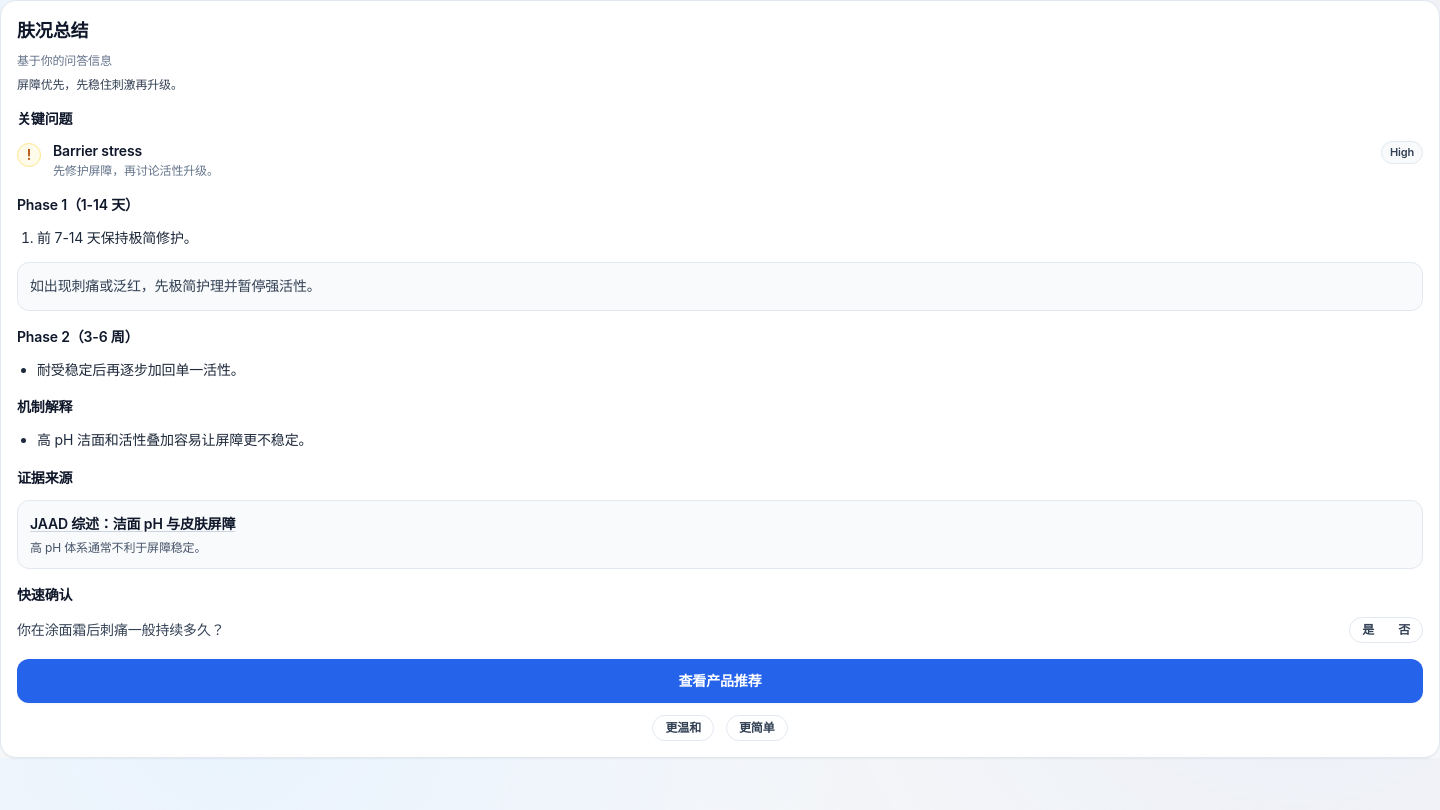
it: AnalysisSummaryCard routine expert rendering › renders routine-expert sections and reveals conditional followups after quick check
Click the button "是": (1368, 630) [1350,618,1386,642]
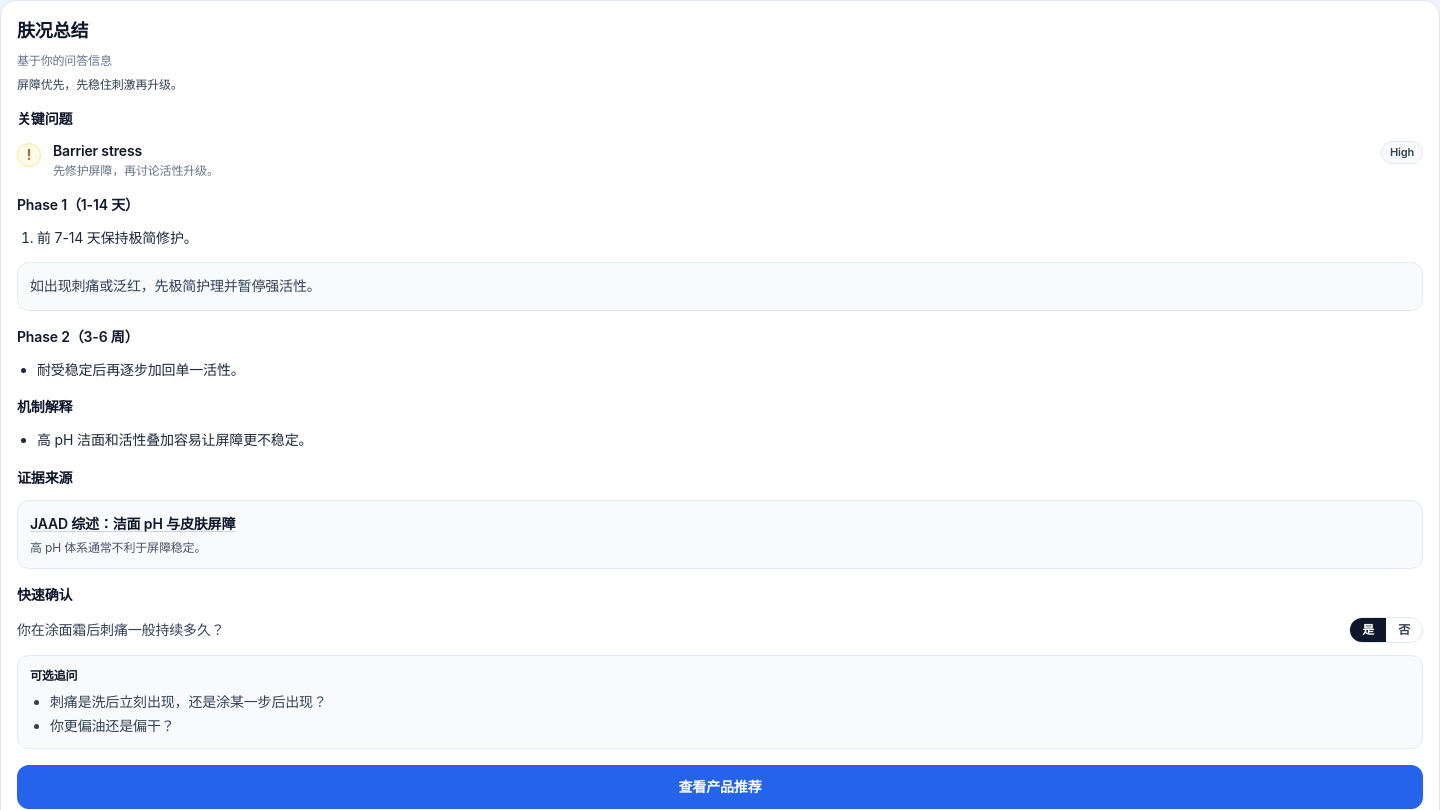
expect the link "JAAD 综述：洁面 pH 与皮肤屏障" is shown: met, box [30,515,235,532]
expect the list item "刺痛是洗后立刻出现，还是涂某一步后出现？" is shown: met, box [50,693,327,710]
